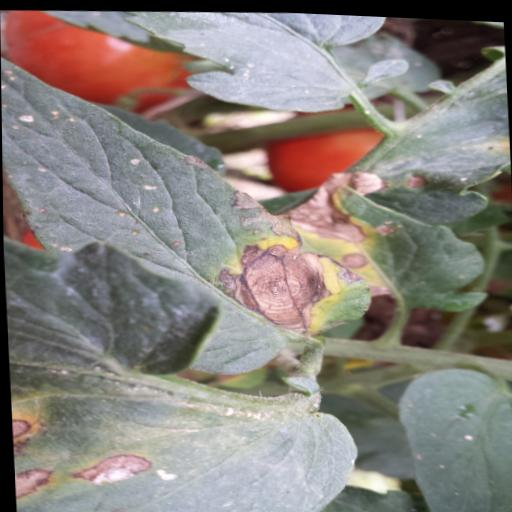Early Blight: (0, 31, 380, 385), (8, 358, 360, 512), (286, 157, 491, 318)
